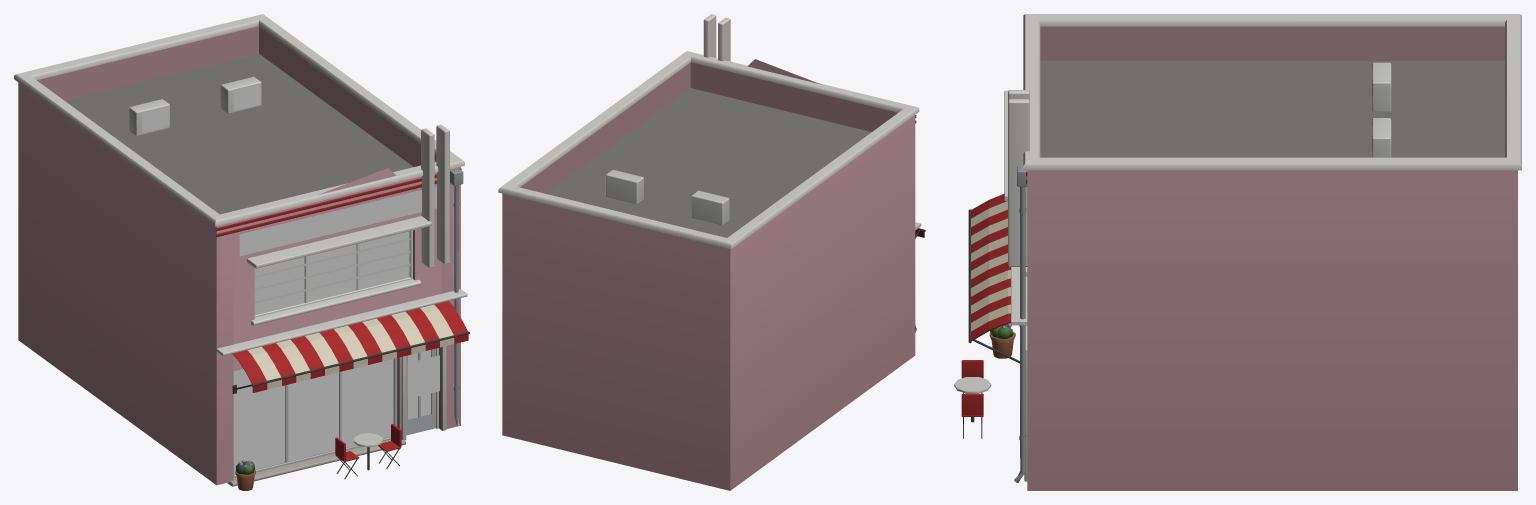
The model's file is DecoCafeFL.fbx.
3 views of the same model, side by side, from view 1: azimuth 30°, elevation 25°; view 2: azimuth 150°, elevation 25°; view 3: azimuth 270°, elevation 25° (orthographic). The views are drawn at different scales.
Visible parts, largest first — view 1: DecoCafeFL; view 2: DecoCafeFL; view 3: DecoCafeFL.
Boxes of the visible parts, box(x1,y1,x2,y2) form: DecoCafeFL: box(14, 14, 469, 490); DecoCafeFL: box(498, 14, 925, 490); DecoCafeFL: box(954, 14, 1521, 490).
Size of the model in its own units: 6.54 by 7.73 by 10.41.
